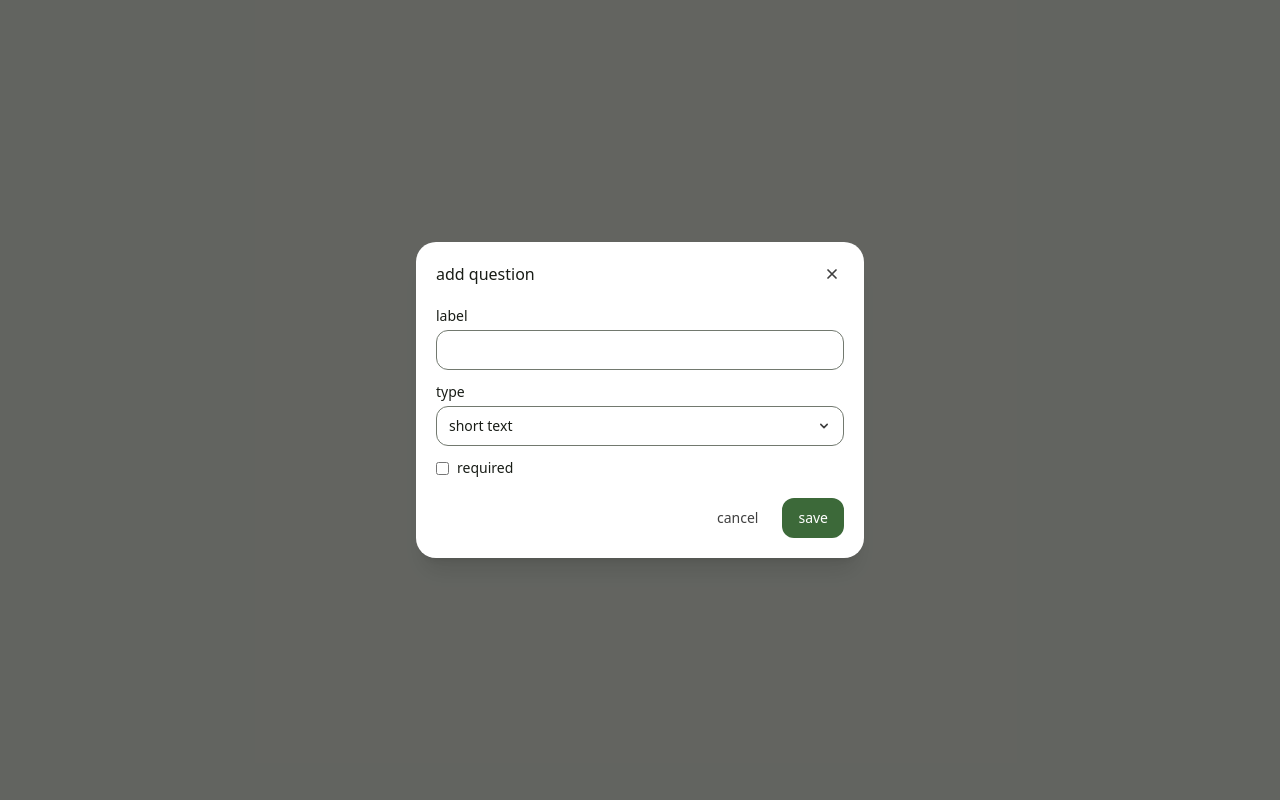
Test case: QuestionAuthorDialog › should require a label before saving
Click the button "save" at (813, 518), box [782,498,844,538]
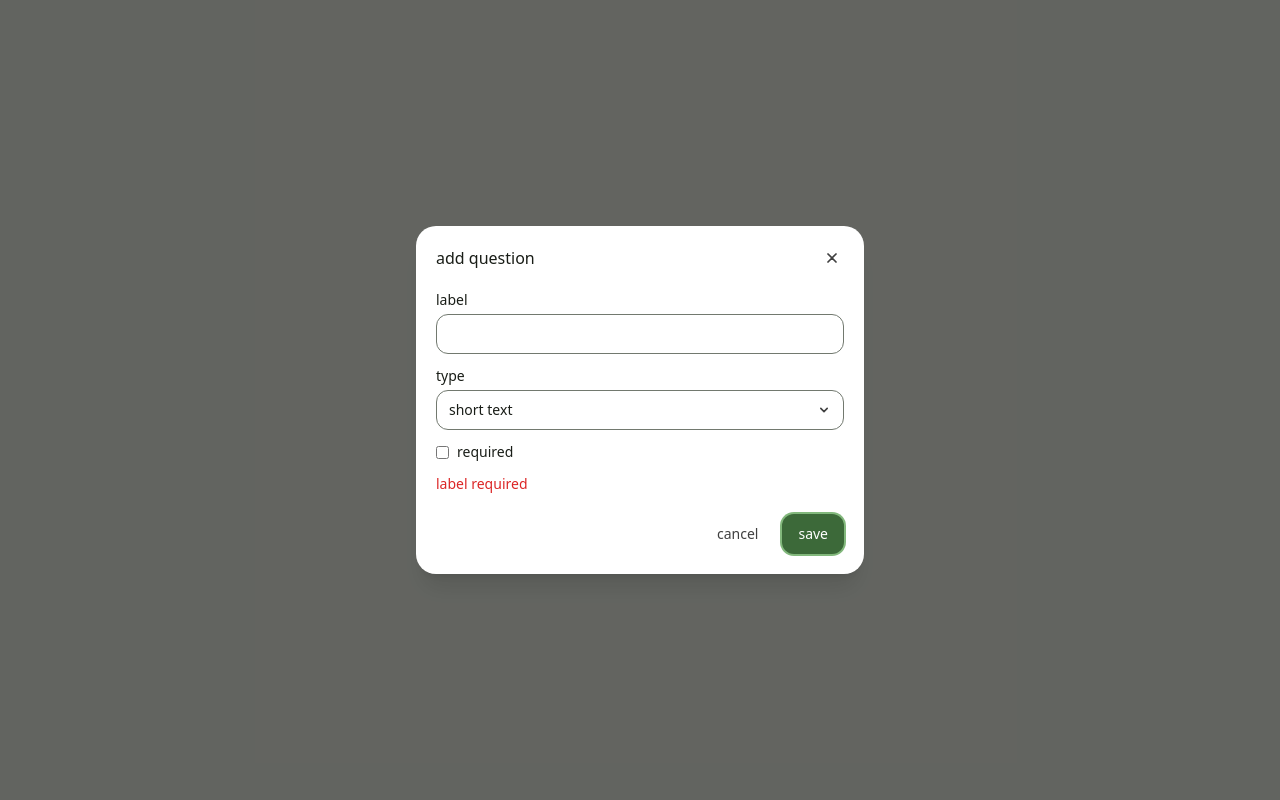
Check: the message reads "label required", box [436,474,528,493]
